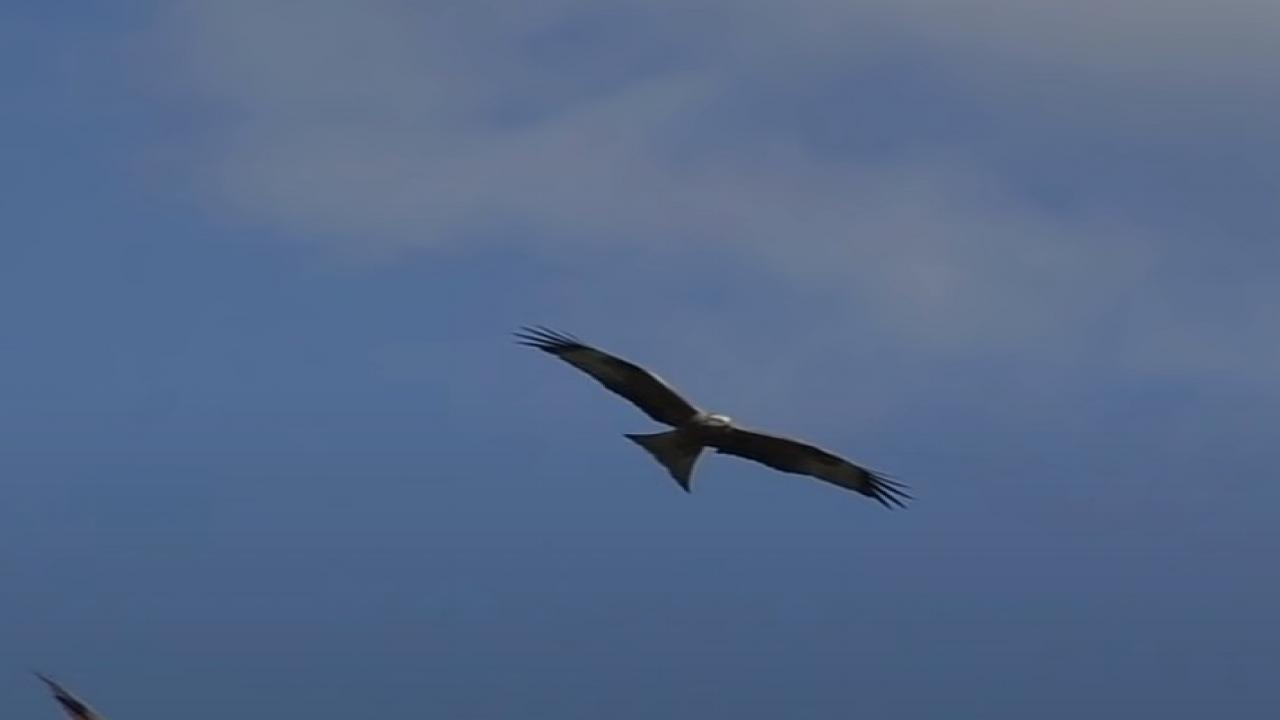Bird: (508, 315, 931, 524)
